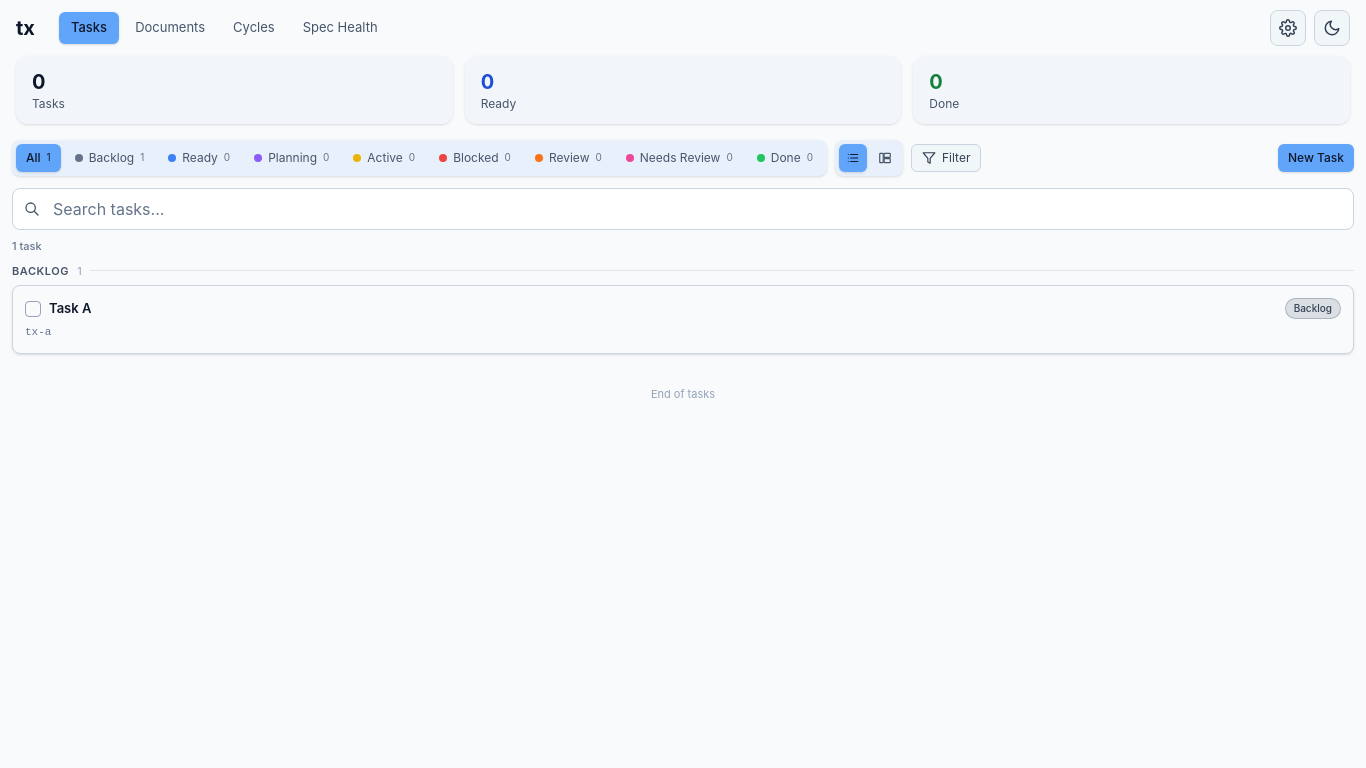
Scenario: Tasks client filters › renders assignment + labels filters on the tasks page
Expected: the heading "Task A" is shown, left=49, top=299, right=91, bottom=318
Click the button "Filter" at (946, 158), box left=911, top=144, right=981, bottom=172
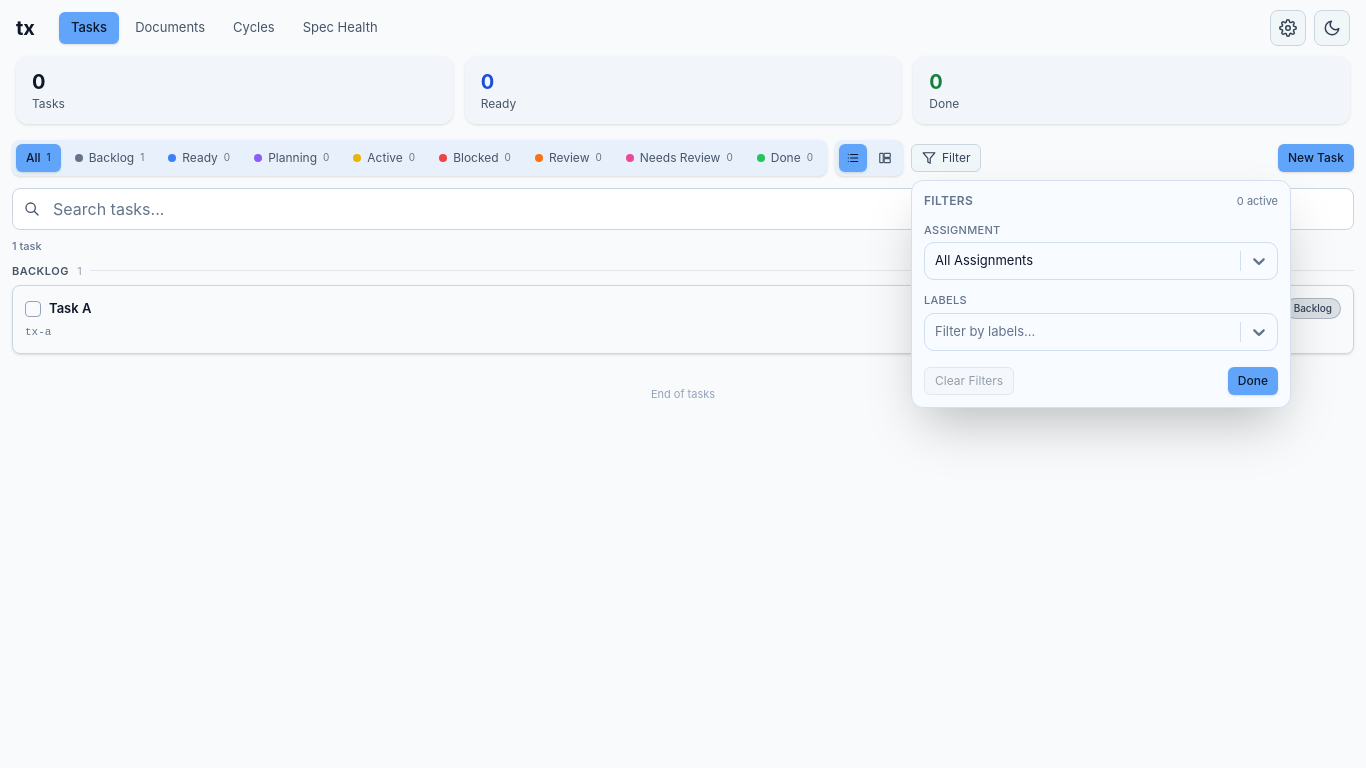
Result: the text "Assignment" is shown at left=924, top=222, right=1000, bottom=236
Result: the text "Labels" is shown at left=924, top=293, right=967, bottom=307
Result: the button "Clear Filters" is disabled at left=924, top=366, right=1014, bottom=394
